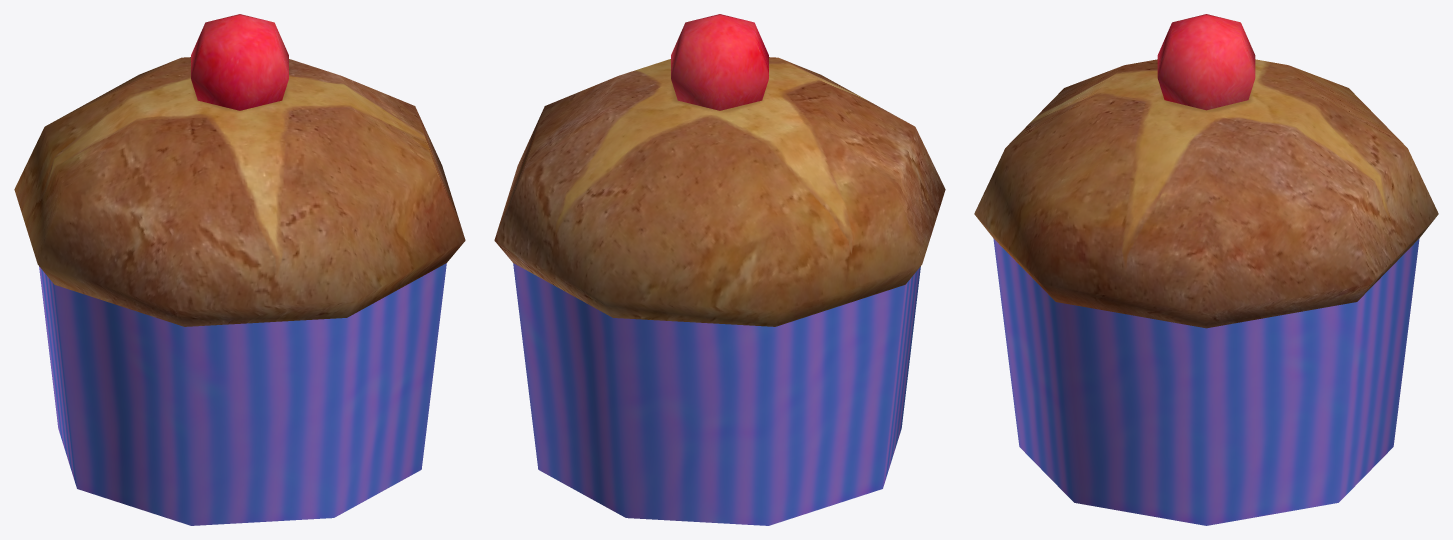
Rendered from Muffin.fbx.
3 renders of one model, left to right at view 1: azimuth 30°, elevation 25°; view 2: azimuth 150°, elevation 25°; view 3: azimuth 270°, elevation 25°, orthographic.
Visible parts, largest first — view 1: Empty_Mesh; view 2: Empty_Mesh; view 3: Empty_Mesh.
Part boxes in pixels (bbox=[...]): Empty_Mesh: bbox=[14, 14, 465, 525]; Empty_Mesh: bbox=[494, 14, 945, 525]; Empty_Mesh: bbox=[974, 14, 1438, 525].
Bounding box in the file's own units: 0.42 × 0.4298 × 0.42.
